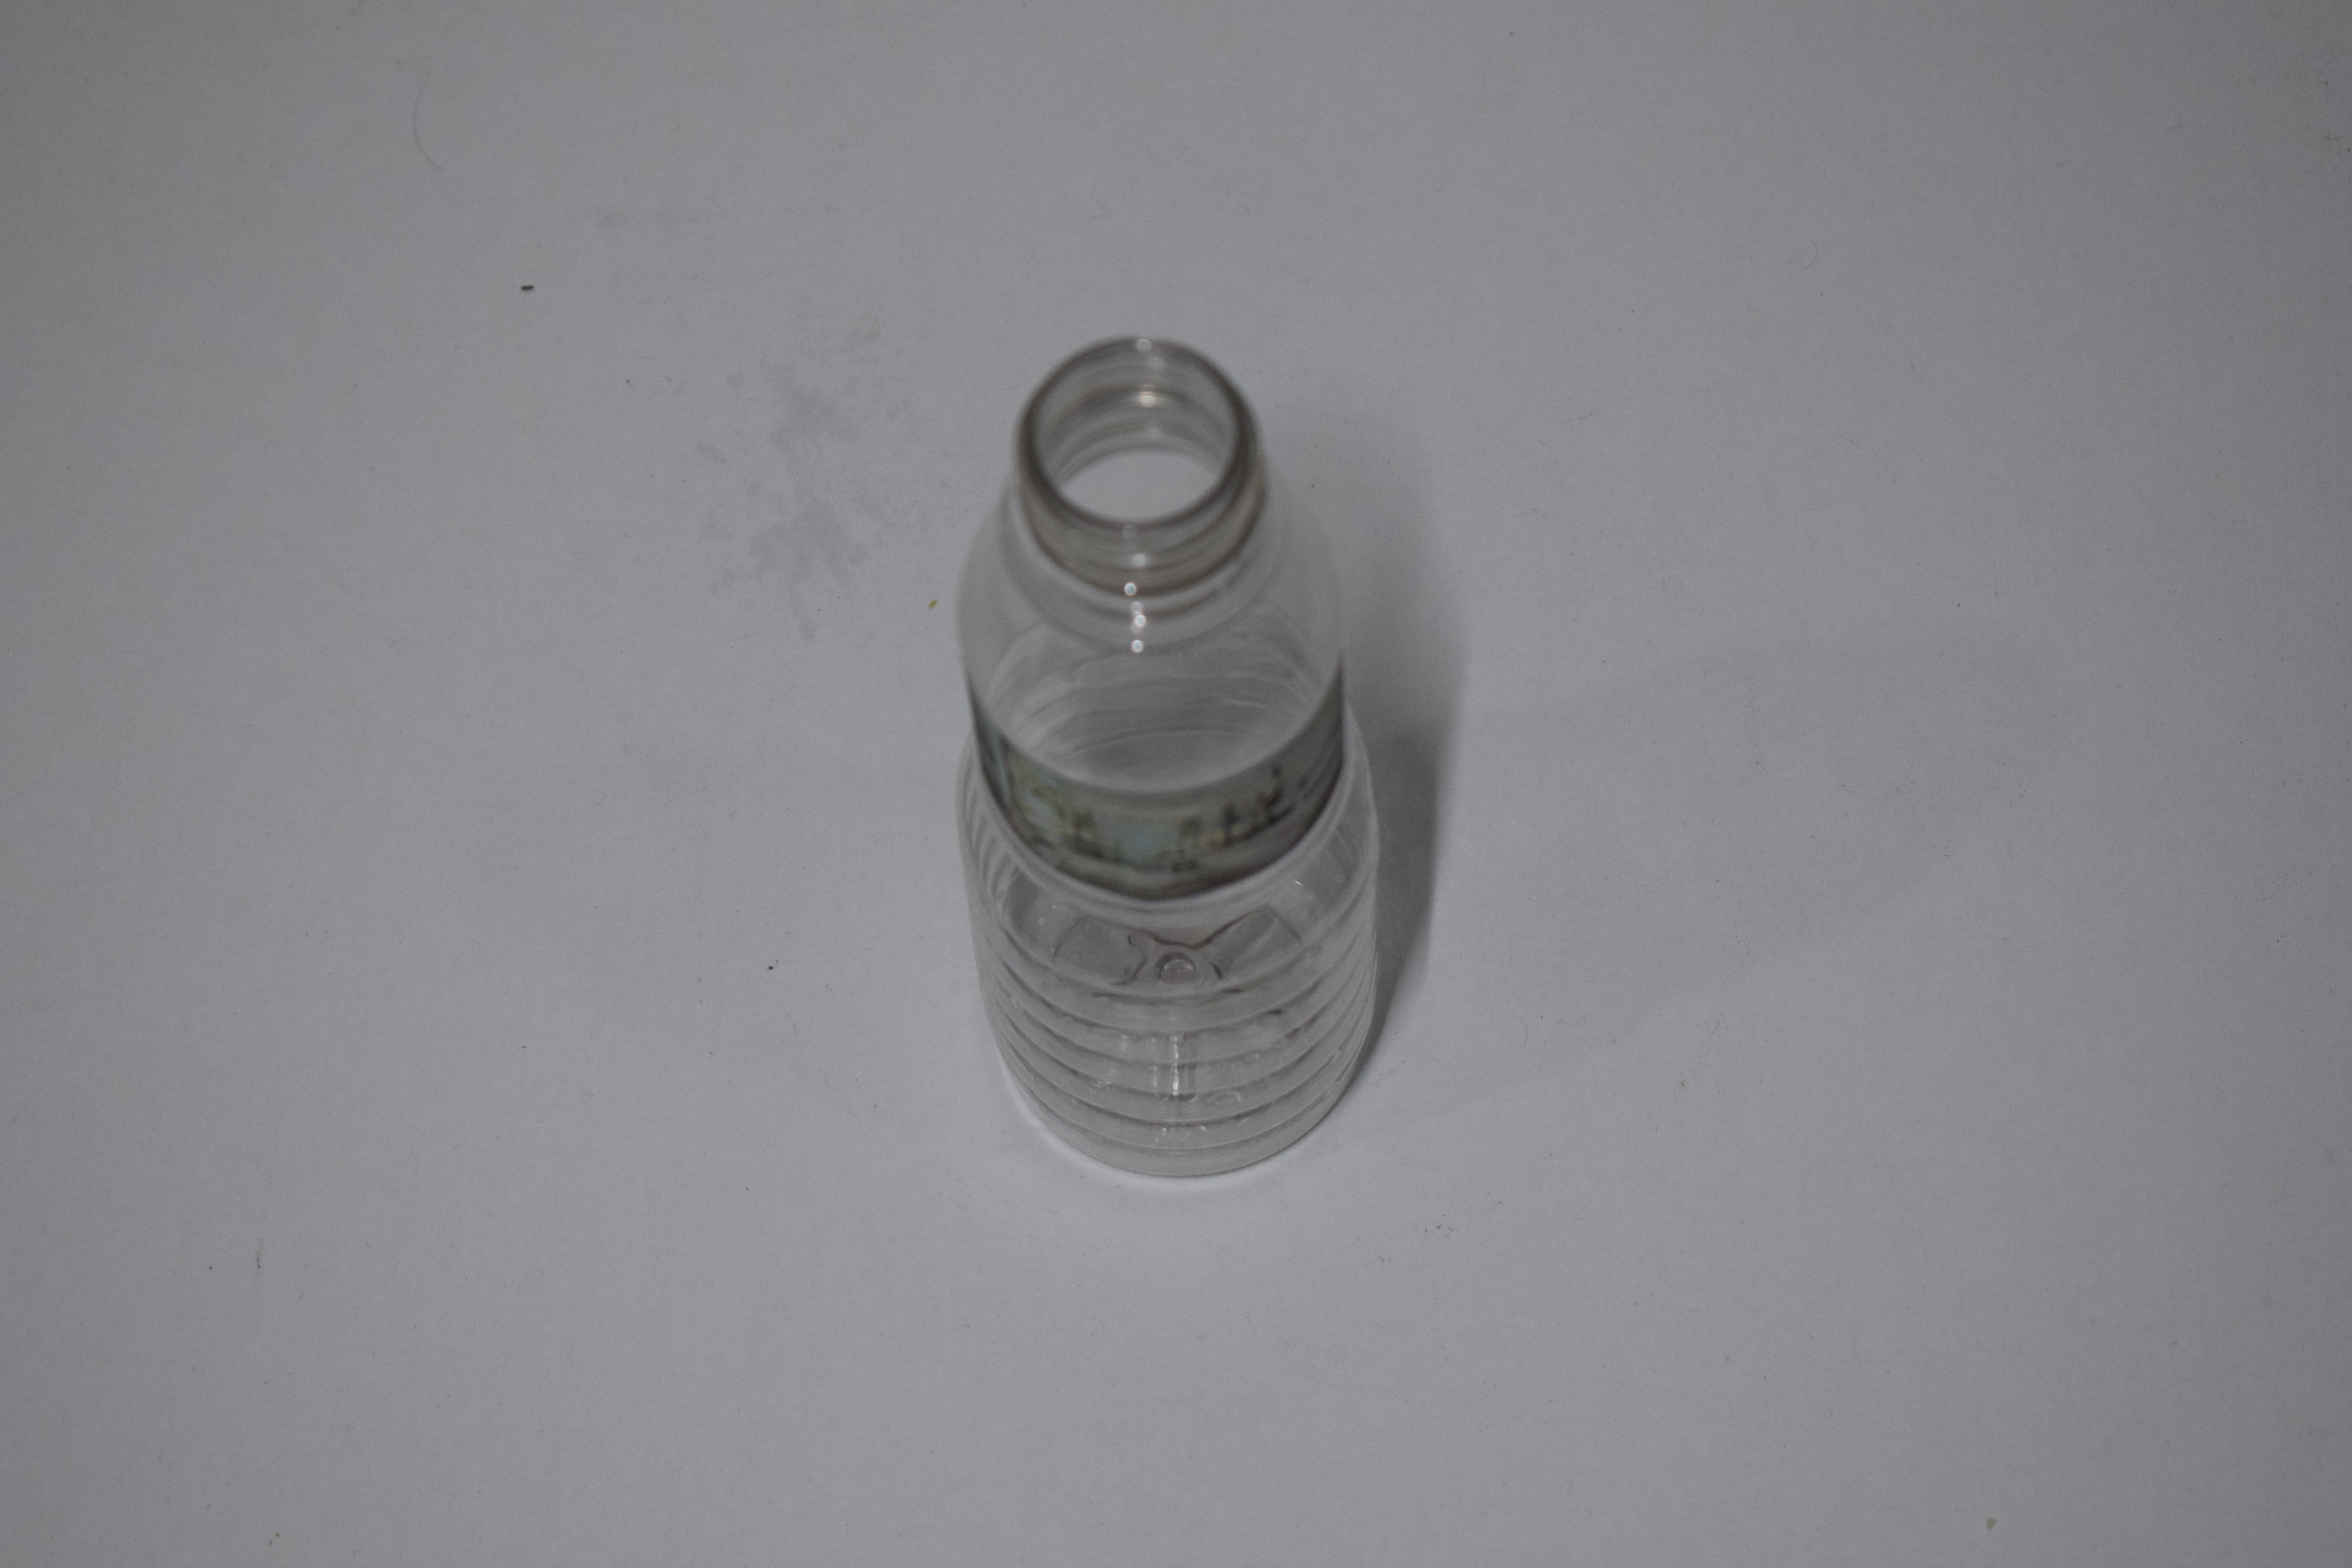bottle: (947, 752, 1391, 756)
